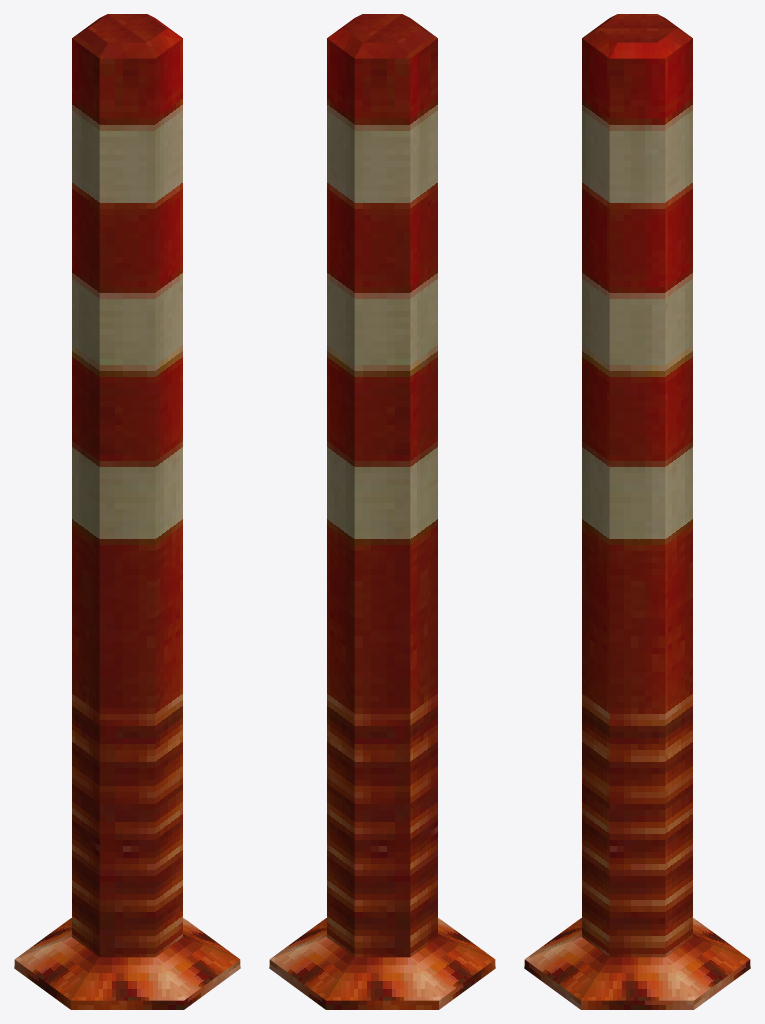
File: simple_bollard.glb
3 renders of one model, left to right at view 1: azimuth 30°, elevation 25°; view 2: azimuth 150°, elevation 25°; view 3: azimuth 270°, elevation 25°, orthographic.
Visible parts, largest first — view 1: simple_bollard; view 2: simple_bollard; view 3: simple_bollard.
Part boxes in pixels (bbox=[...]): simple_bollard: bbox=[14, 14, 240, 1009]; simple_bollard: bbox=[269, 14, 495, 1009]; simple_bollard: bbox=[524, 14, 750, 1009].
Size of the model in its own units: 0.2326 by 1.23 by 0.2685.
Materials: 1 (1 with a texture image).
